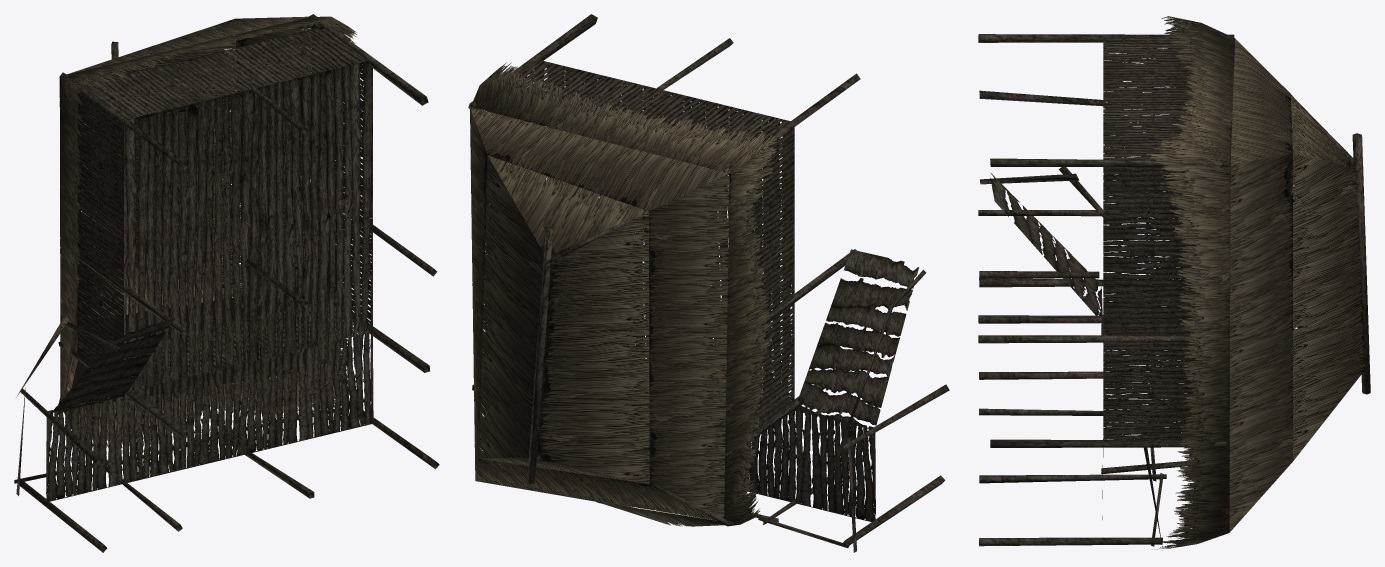
File: MEP_Shack_03_LOD_03.fbx
The picture shows the model from 3 angles, left to right: view 1: azimuth 30°, elevation 25°; view 2: azimuth 150°, elevation 25°; view 3: azimuth 270°, elevation 25°; orthographic projection. The views are drawn at different scales.
Parts seen in each view (by area): view 1: MEP_Shack_03_LOD_03; view 2: MEP_Shack_03_LOD_03; view 3: MEP_Shack_03_LOD_03.
Boxes of the visible parts, x1,y1,x2,y2 form: MEP_Shack_03_LOD_03: (14, 14, 439, 552); MEP_Shack_03_LOD_03: (468, 14, 949, 552); MEP_Shack_03_LOD_03: (978, 16, 1370, 550).
Size of the model in its own units: 16.32 by 17.33 by 15.06.
